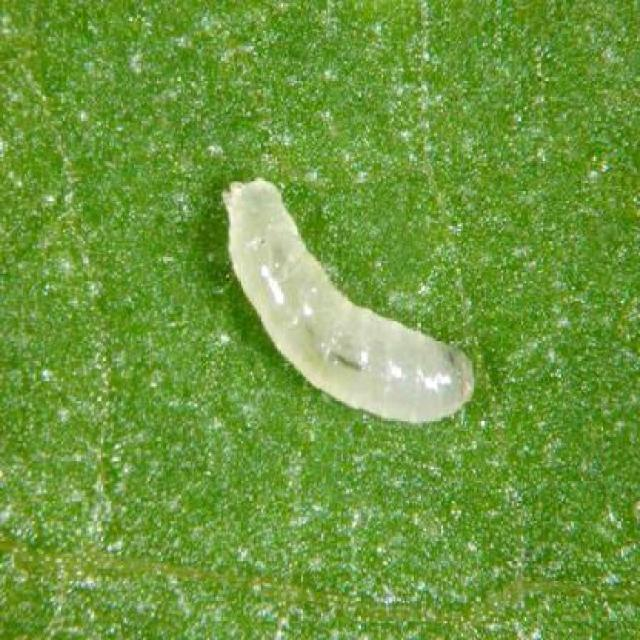whorl-maggot: (218, 172, 478, 430)
